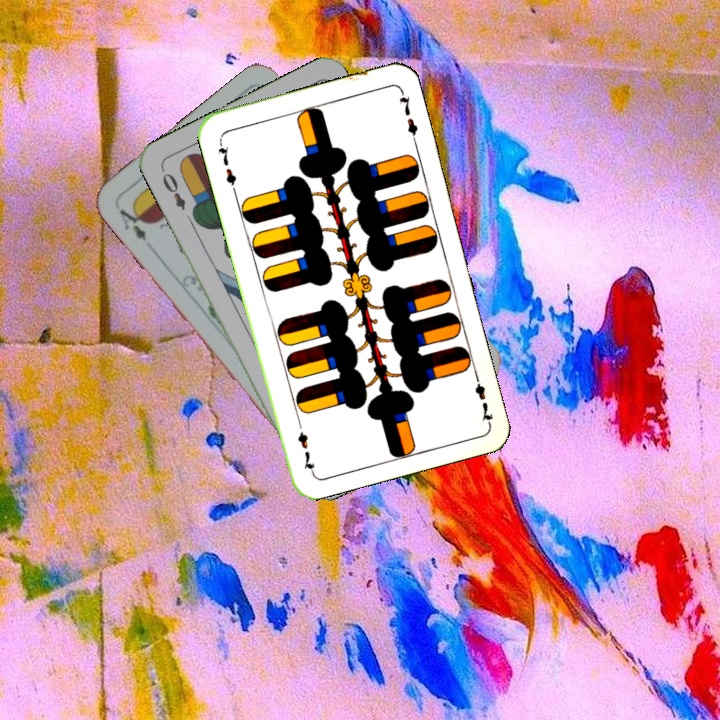E7: (470, 367, 496, 426), (214, 136, 239, 194)
EA: (115, 200, 150, 244)
EO: (158, 164, 189, 213)
